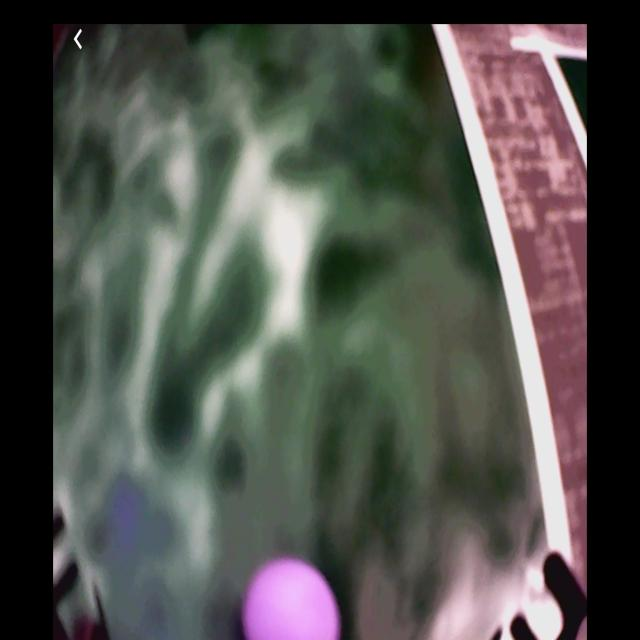ball: (244, 561, 345, 640)
